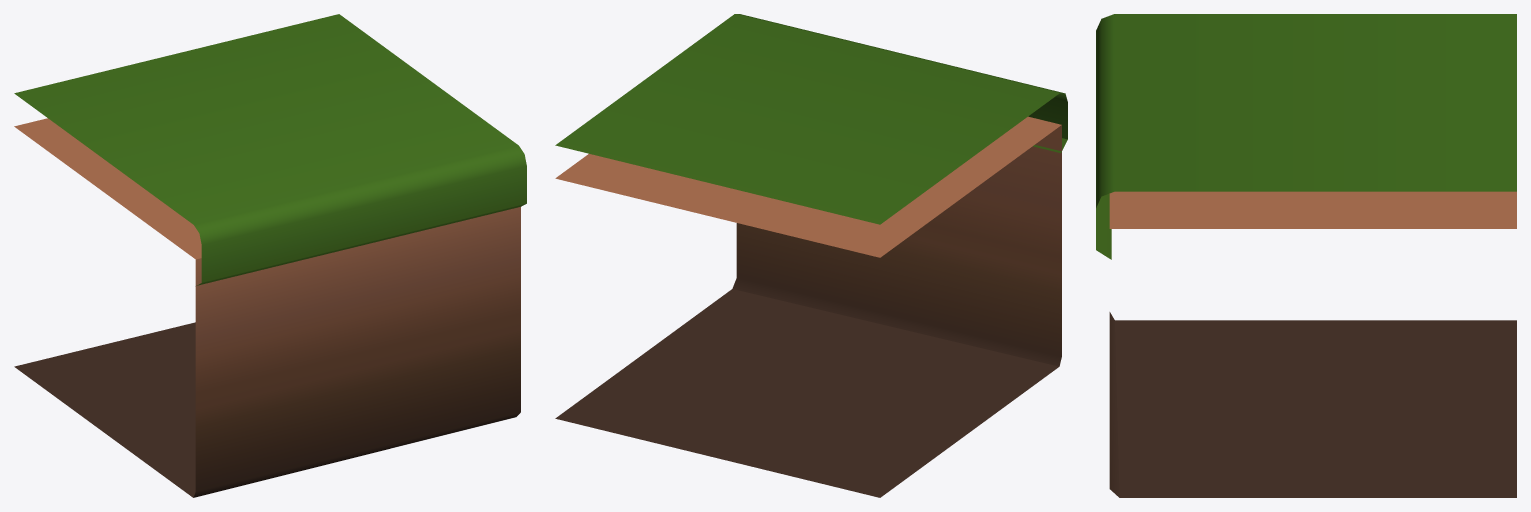
File: GroundTile_2 (78).fbx
3 renders of one model, left to right at view 1: azimuth 30°, elevation 25°; view 2: azimuth 150°, elevation 25°; view 3: azimuth 270°, elevation 25°, orthographic. The views are drawn at different scales.
Parts seen in each view (by area): view 1: GroundTile_2 (78); view 2: GroundTile_2 (78); view 3: GroundTile_2 (78).
Part boxes in pixels (x1=…): GroundTile_2 (78): x1=14, y1=14, x2=526, y2=497; GroundTile_2 (78): x1=555, y1=14, x2=1067, y2=497; GroundTile_2 (78): x1=1096, y1=14, x2=1516, y2=497.
Bounding box in the file's own units: 400 × 321 × 400.
